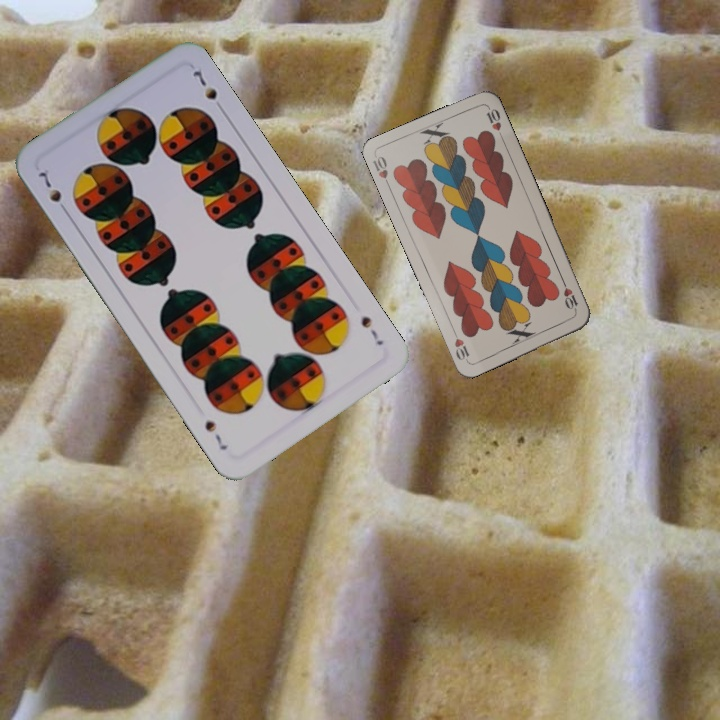H10: (369, 152, 393, 191), (558, 276, 581, 315)
S7: (34, 167, 71, 217), (357, 312, 387, 348)
